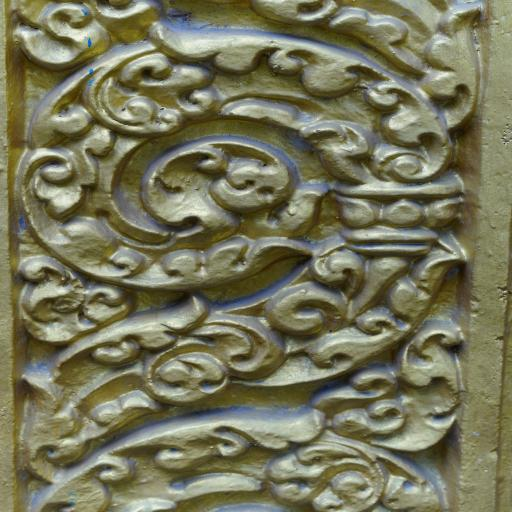la: (0, 0, 481, 423), (14, 396, 500, 512)
